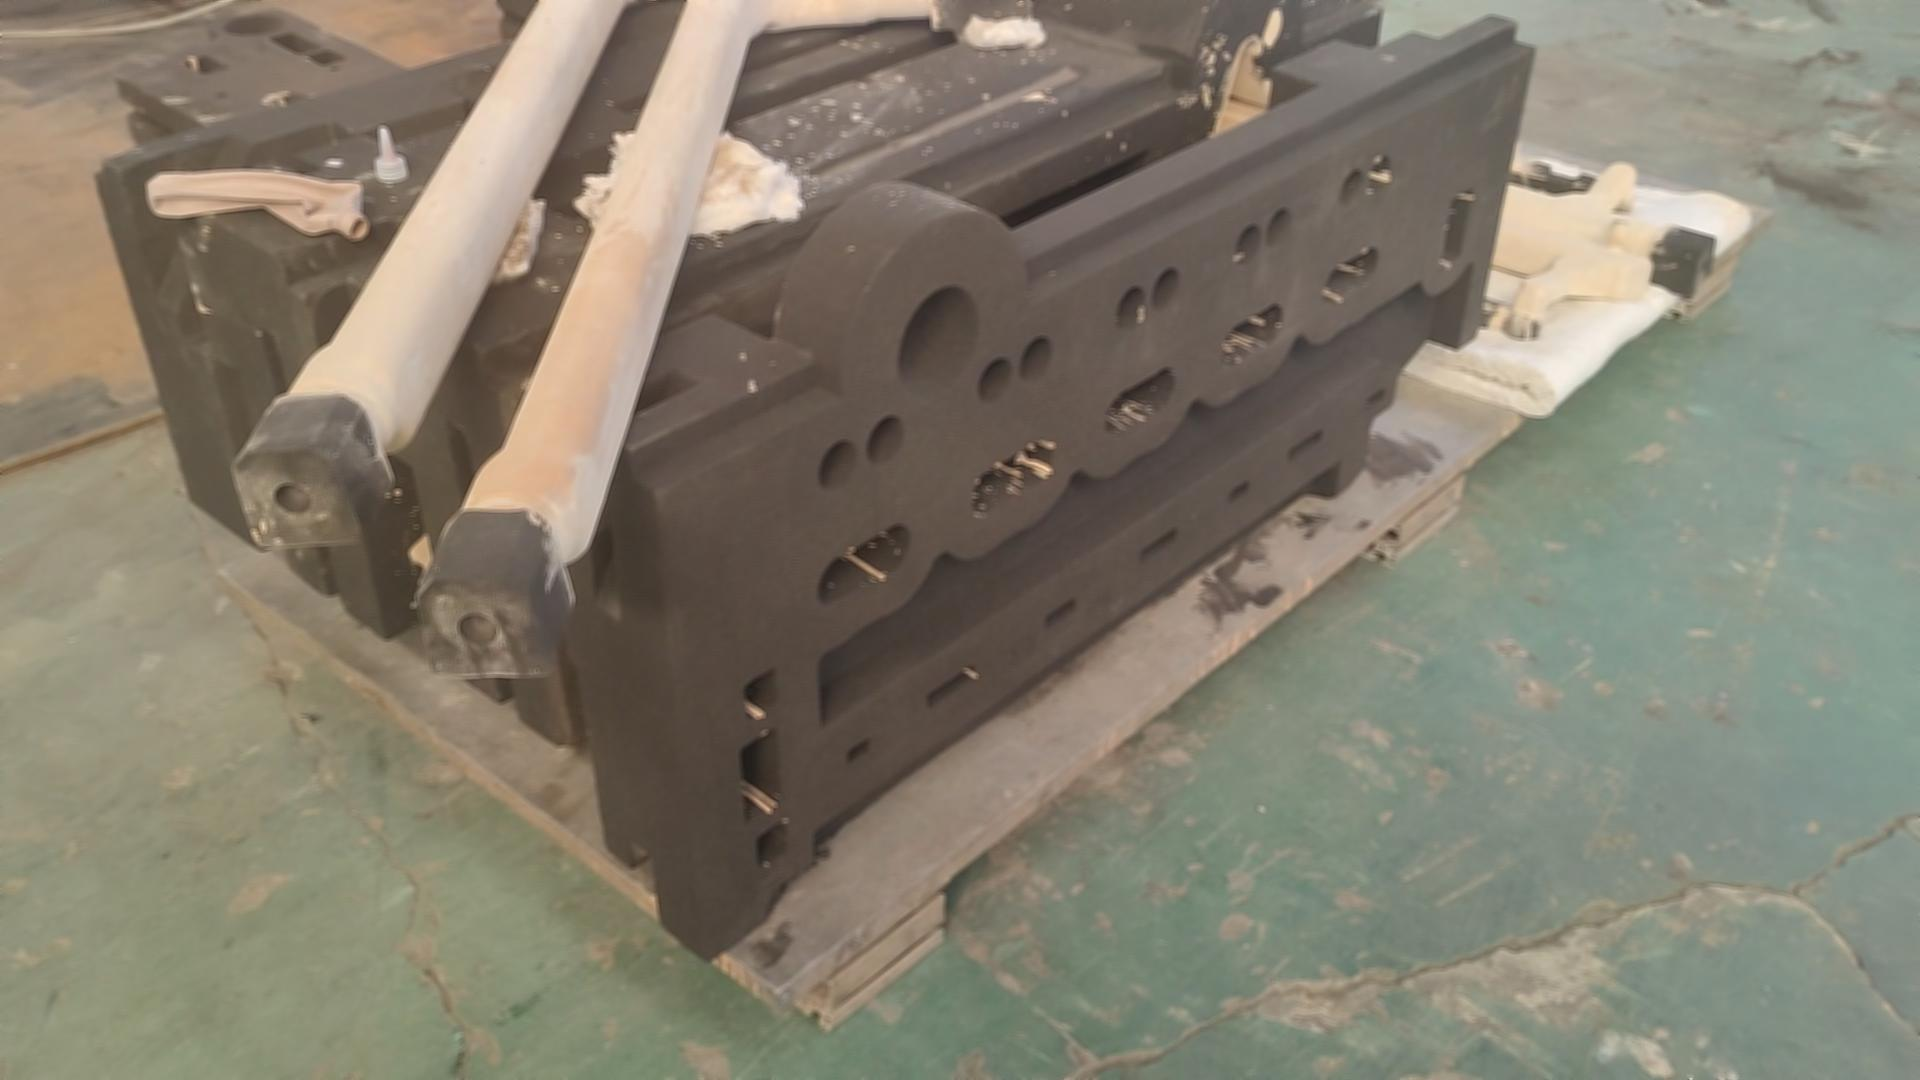pouring hole: (897, 285, 980, 397), (223, 15, 289, 36)
